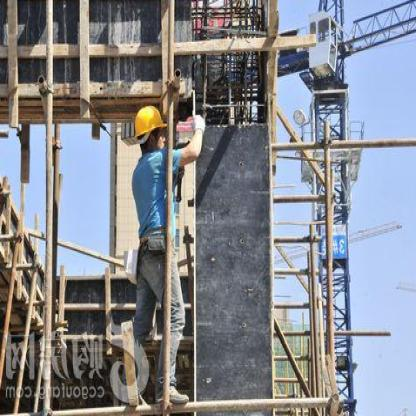bee: (132, 102, 166, 154)
